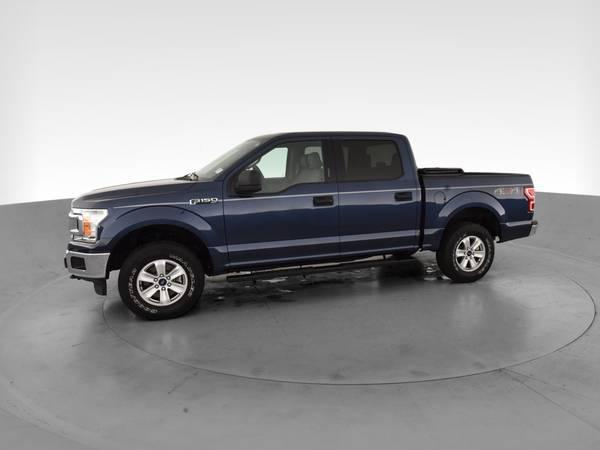Front_Bumper: (58, 245, 112, 291)
Front_Fender: (71, 180, 231, 267)
Front_Left_Door: (219, 182, 338, 271)
Front_Left_Window: (219, 132, 337, 188)
Hood: (67, 170, 217, 204)
Left_Headlight: (69, 210, 108, 249)
Left_Taillight: (526, 189, 537, 214)
Rear_Fender: (421, 176, 534, 248)
Rear_Left_Door: (336, 176, 421, 259)
Rear_Left_Window: (331, 136, 405, 180)
Roof: (218, 127, 417, 180)
Wheel: (118, 241, 205, 320), (441, 221, 500, 283)
